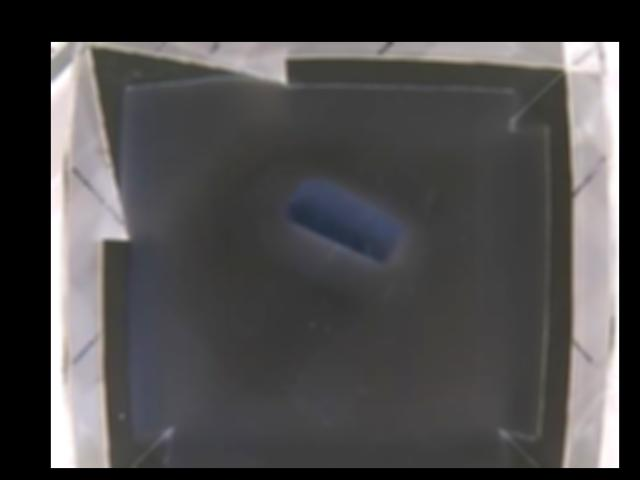Mooli: (287, 180, 407, 267)
